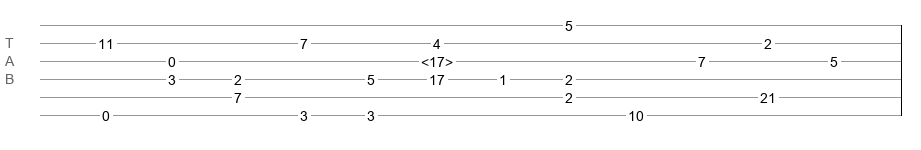0: (102, 108, 110, 118), (168, 54, 176, 64)
1: (499, 72, 507, 82)
10: (628, 108, 644, 118)
11: (98, 36, 114, 46)
17: (429, 72, 445, 82)
2: (234, 72, 242, 82), (565, 72, 573, 82), (565, 90, 573, 100), (764, 36, 772, 46)
21: (760, 90, 776, 100)
3: (168, 72, 176, 82), (300, 108, 308, 118), (367, 108, 375, 118)
4: (433, 36, 441, 46)
5: (367, 72, 375, 82), (565, 18, 573, 28), (830, 54, 838, 64)
7: (234, 90, 242, 100), (300, 36, 308, 46), (698, 54, 706, 64)
harmonic: (421, 54, 453, 64)
